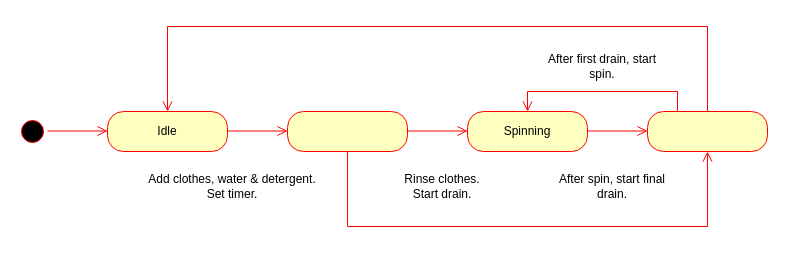
The diagram is 785 pixels wide and 254 high, and some of its shapes have lost their labels. Here are the shapes that lost their labels. From the top down, the box of each, then its label:
(286, 110, 408, 152): Washing
(646, 110, 768, 152): Draining
